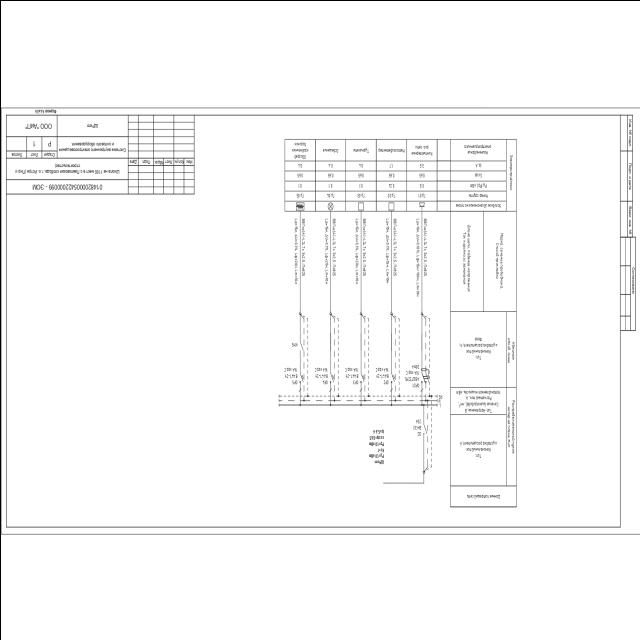-: (403, 363, 419, 381), (374, 366, 388, 378), (313, 366, 327, 378), (344, 366, 358, 378), (282, 366, 296, 378), (412, 418, 422, 430), (372, 458, 383, 464)
KM: (298, 339, 302, 353)
QF: (328, 369, 334, 392), (297, 369, 303, 392), (388, 369, 394, 392), (358, 370, 364, 392)
QFD: (420, 365, 430, 391)
QS: (422, 422, 428, 436)
